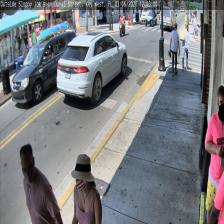person: (19, 144, 64, 224), (204, 84, 224, 224), (71, 154, 102, 223)
